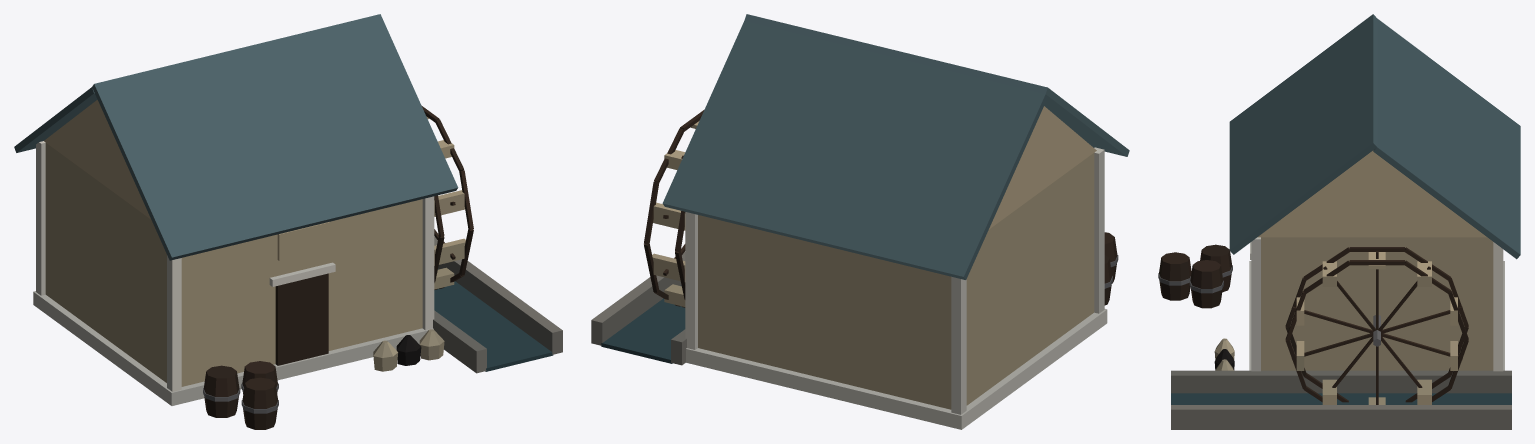
The model's file is walk_veiled_mill.glb.
3 views of the same model, side by side, from view 1: azimuth 30°, elevation 25°; view 2: azimuth 150°, elevation 25°; view 3: azimuth 270°, elevation 25° (orthographic). The views are drawn at different scales.
Visible parts, largest first — view 1: walk_veiled_mill, walk_veiled_mill_roof; view 2: walk_veiled_mill, walk_veiled_mill_roof; view 3: walk_veiled_mill, walk_veiled_mill_roof.
Part boxes in pixels (x1,y1,x2,y2): walk_veiled_mill: (33,100,562,429); walk_veiled_mill_roof: (14,14,458,260); walk_veiled_mill: (591,106,1118,429); walk_veiled_mill_roof: (662,14,1129,279); walk_veiled_mill: (1158,150,1511,429); walk_veiled_mill_roof: (1229,14,1520,259).
Size of what is drawn, in the model's own units: 8.52 by 6.36 by 8.08.
2 materials, 2 textured.
